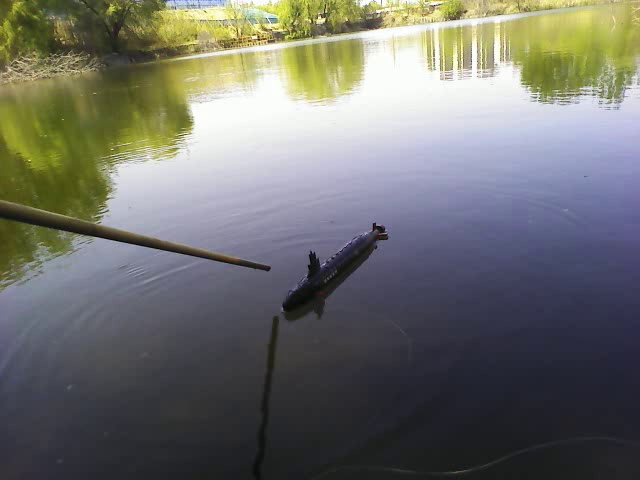submarine: (280, 220, 395, 314)
